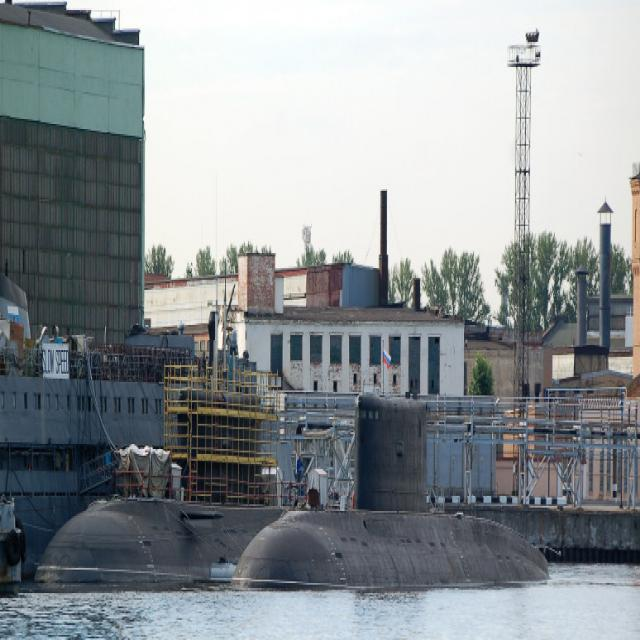submarine: (244, 395, 553, 572), (29, 499, 291, 588)
